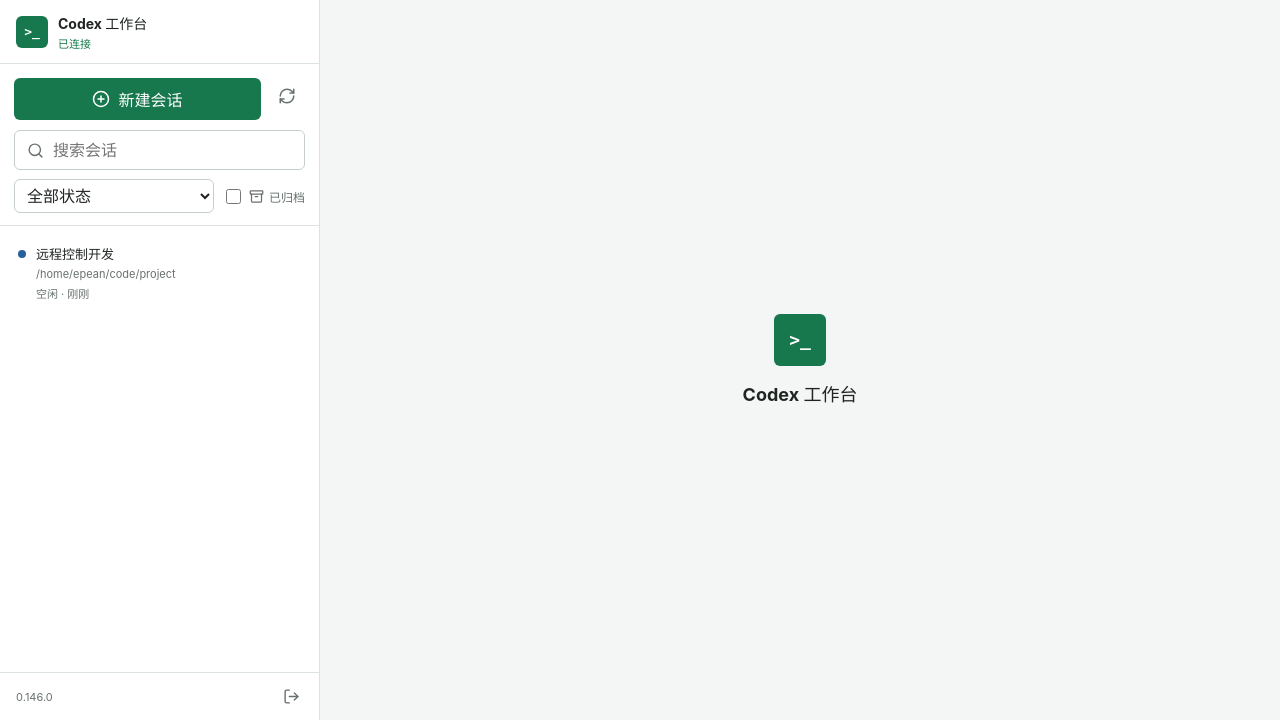
Test: Workbench › opens a listed thread and applies realtime timeline and approval events
Click the button "远程控制开发 /home/epean/code/project 空闲 · 刚刚": click(160, 273) [7,233,312,313]
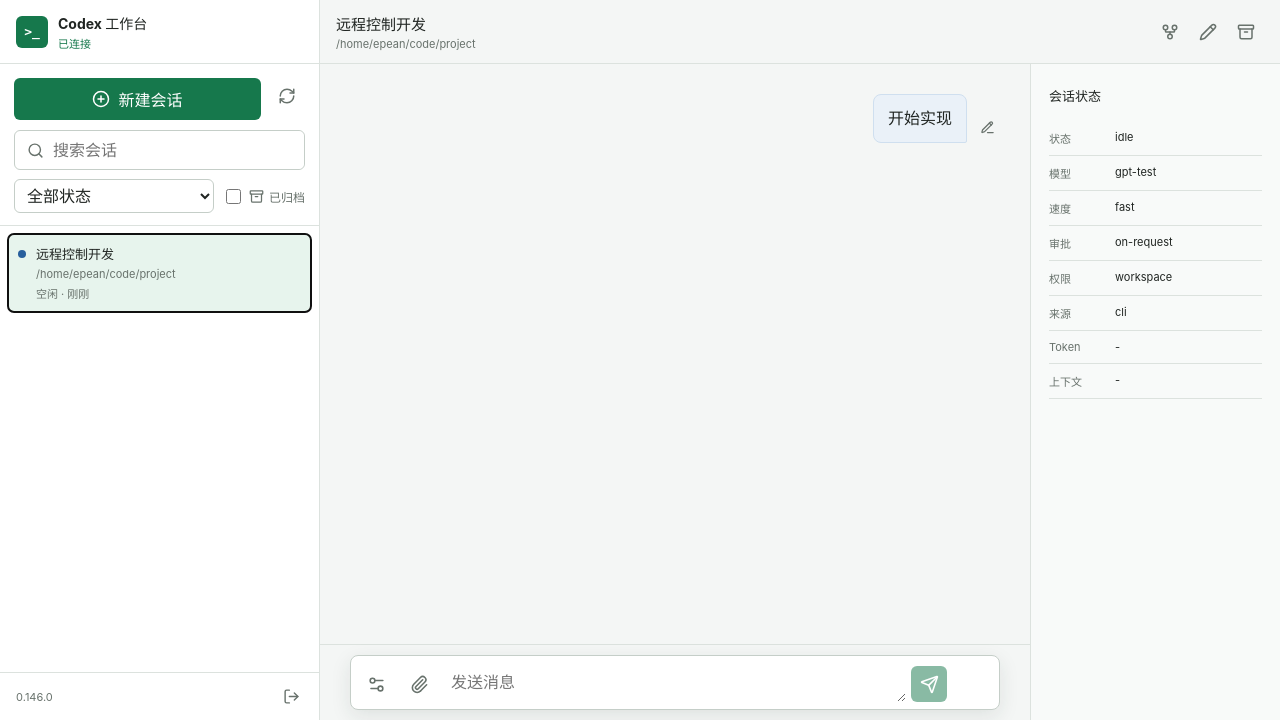
Check: the text "开始实现" is shown, box [888,106,952,131]
Click the button named "重新编辑这条指令": click(987, 128) [972,113,1002,143]
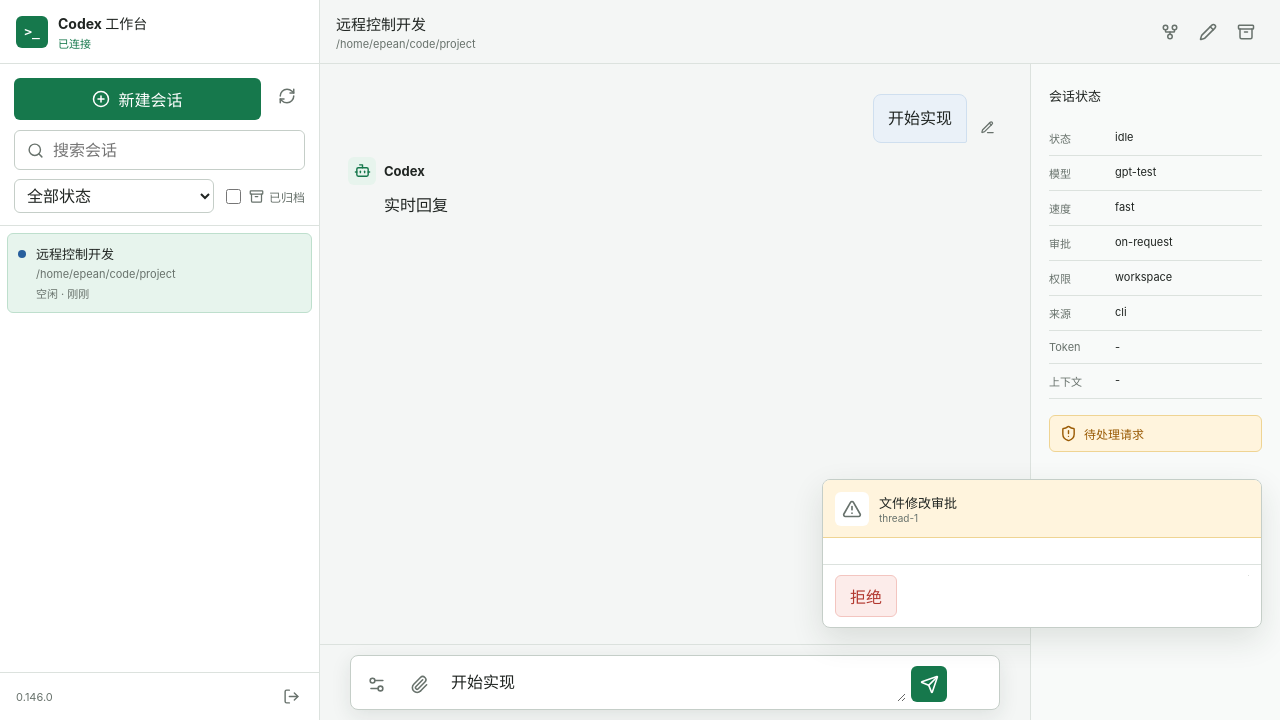
Check: the text box named "发送消息" holds "开始实现", box [444,663,906,702]
Check: the text "实时回复" is shown, box [384,195,448,215]
Check: the dialog named "待处理请求" is shown, box [822,479,1262,628]
